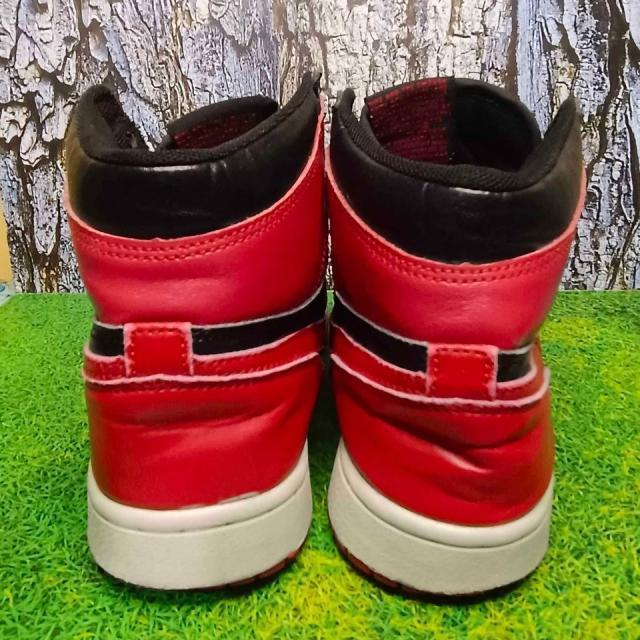nike fake jordan 1: (55, 69, 332, 593), (324, 72, 588, 599)
